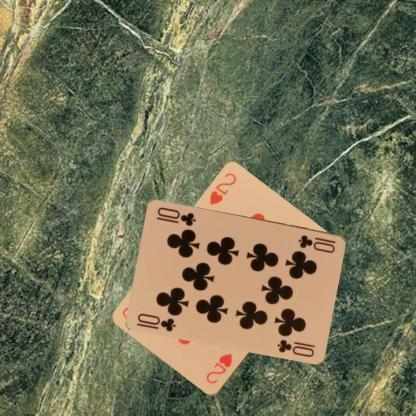10c: (134, 310, 177, 333), (296, 232, 338, 254)
2h: (207, 170, 238, 206), (204, 351, 233, 385)
